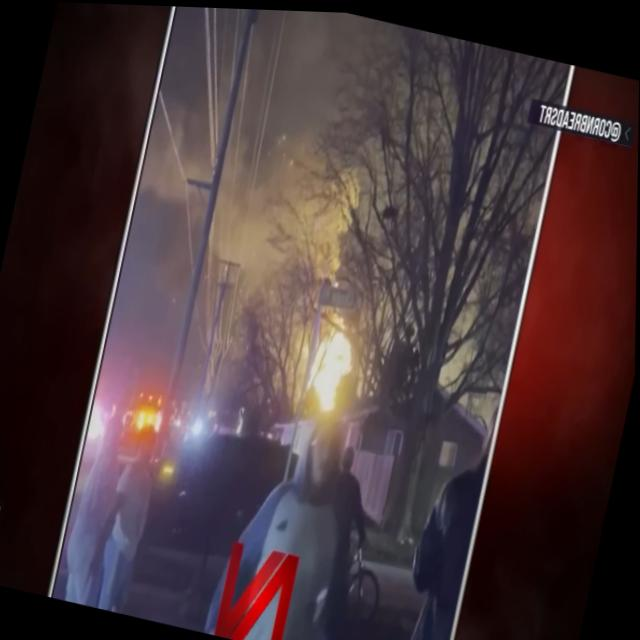Fire: (293, 304, 368, 421)
